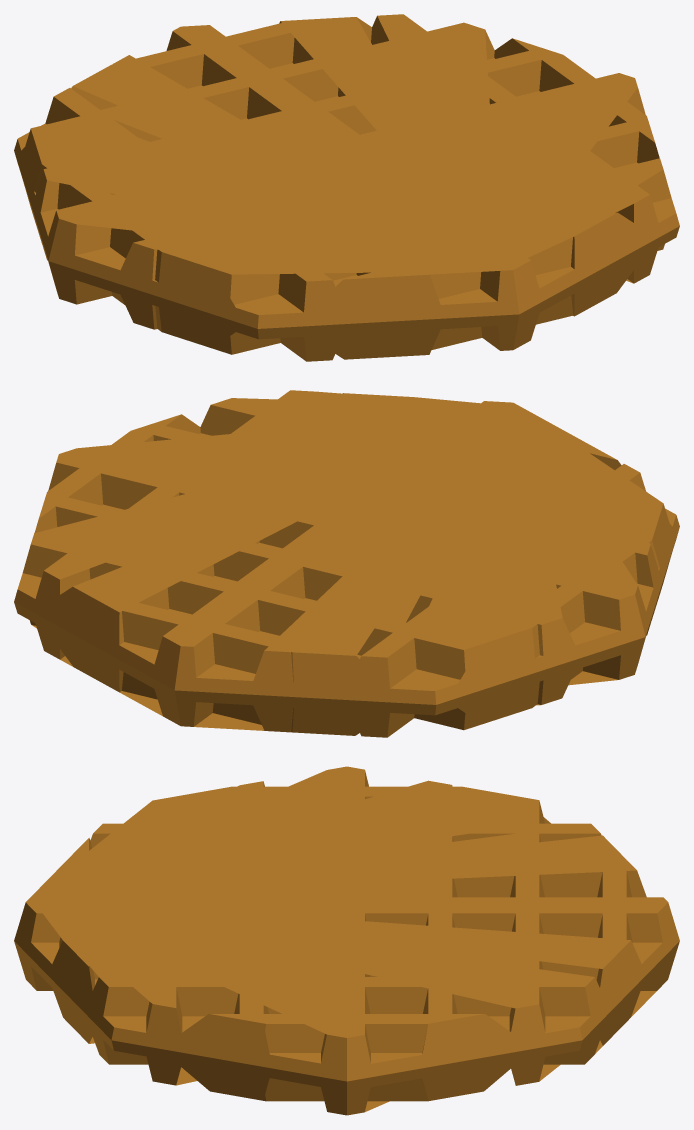
Rendered from waffle 03.fbx.
3 views of the same model, one above another, from view 1: azimuth 30°, elevation 25°; view 2: azimuth 150°, elevation 25°; view 3: azimuth 270°, elevation 25° (orthographic). The views are drawn at different scales.
Parts seen in each view (by area): view 1: waffle 03; view 2: waffle 03; view 3: waffle 03.
Part boxes in pixels (bbox=[...]): waffle 03: bbox=[14, 14, 679, 361]; waffle 03: bbox=[14, 390, 679, 737]; waffle 03: bbox=[14, 766, 679, 1115].
Size of the model in its own units: 15.59 by 15.59 by 2.
